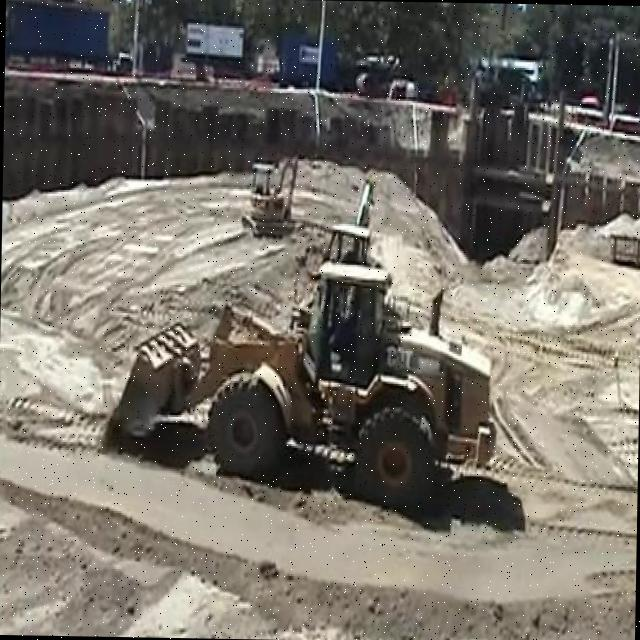Excavator: (238, 150, 298, 238)
Loader: (104, 254, 498, 519)
